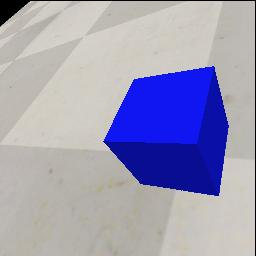box: (103, 66, 230, 196)
